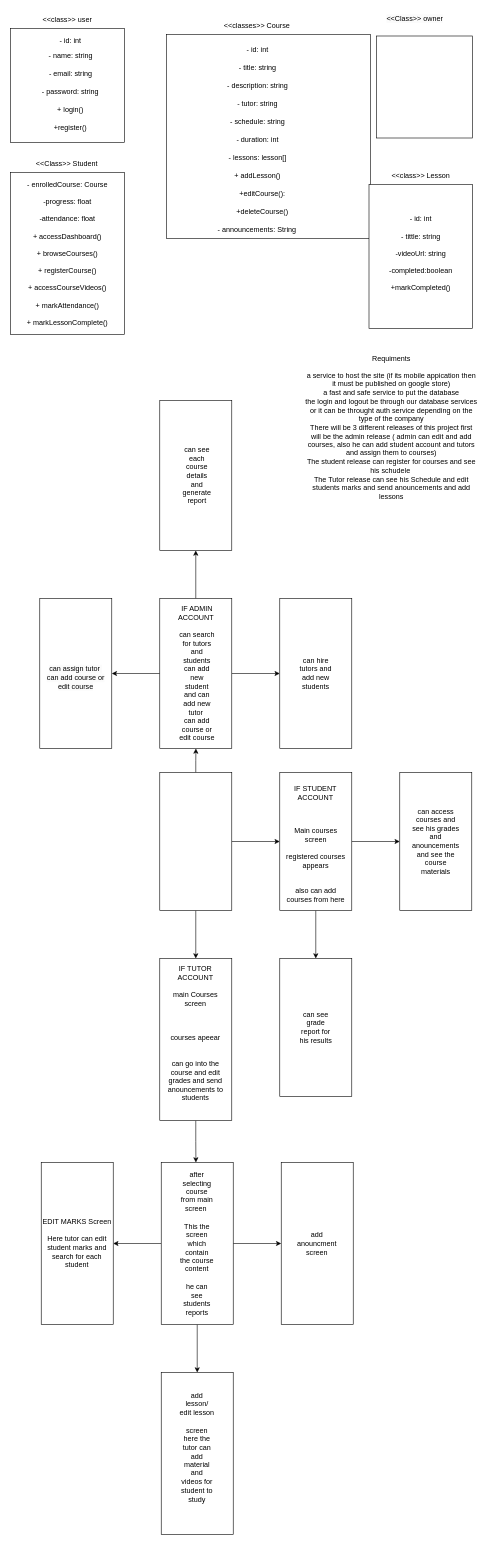
This 489x1545 diagram has some shape labels left out. The shapes that lost their labels are listed below. From the top down, each one's box as (x1, y1, x2, y2) in pixels, then its label:
(376, 35, 472, 138): + addCourse + editCourse() + deleteCourse() + generateReports()
(159, 772, 232, 910): login or sign up screen
